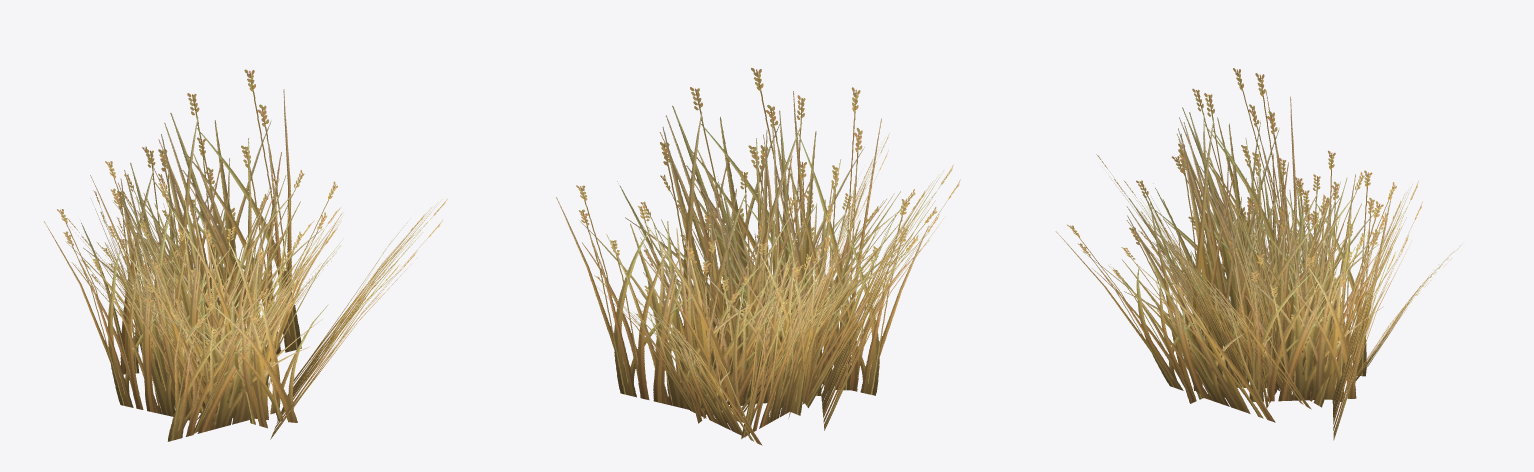
File: Grass_DryGolden_B.fbx
The picture shows the model from 3 angles, left to right: view 1: azimuth 30°, elevation 25°; view 2: azimuth 150°, elevation 25°; view 3: azimuth 270°, elevation 25°; orthographic projection. The views are drawn at different scales.
Parts seen in each view (by area): view 1: Grass_DryGolden_B_LOD0; view 2: Grass_DryGolden_B_LOD0; view 3: Grass_DryGolden_B_LOD0.
Part boxes in pixels (x1=…): Grass_DryGolden_B_LOD0: x1=44, y1=69, x2=447, y2=441; Grass_DryGolden_B_LOD0: x1=556, y1=68, x2=960, y2=445; Grass_DryGolden_B_LOD0: x1=1055, y1=68, x2=1462, y2=440.
Size of what is drawn, in the model's own units: 1.31 by 0.8688 by 1.32.
